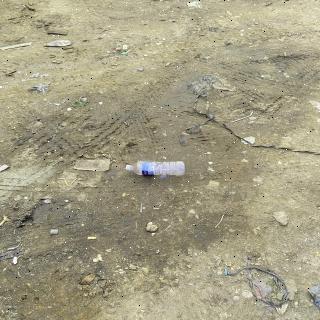Plastic-bottle: (123, 158, 189, 182)
